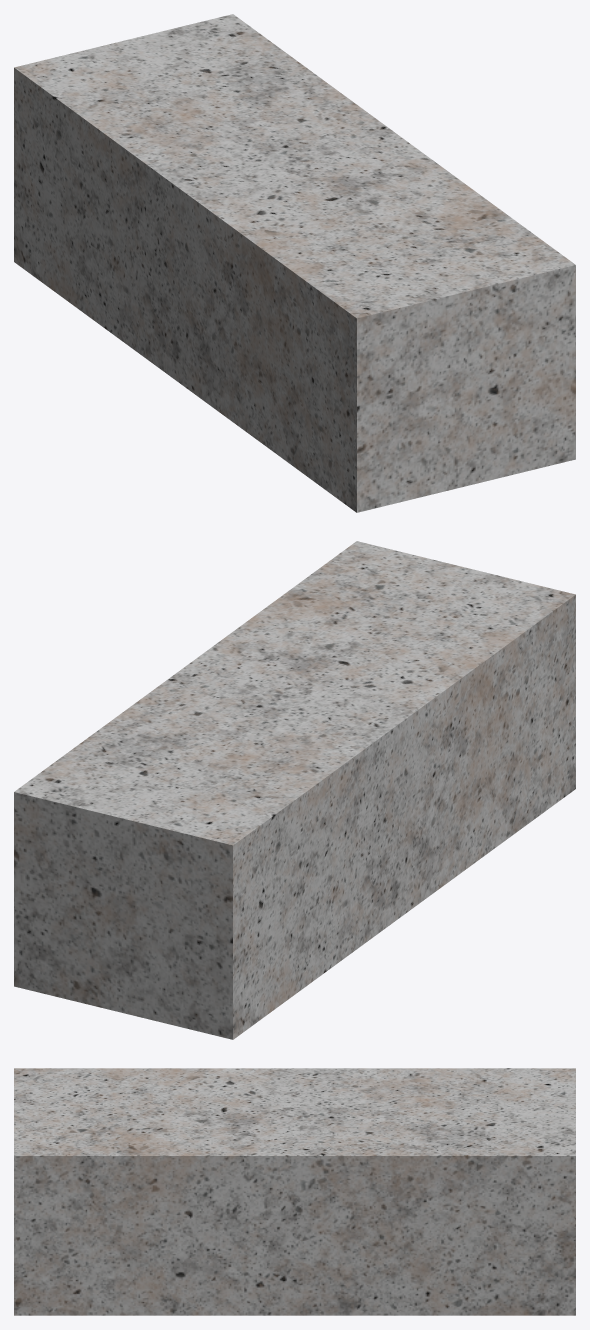
The model's file is SM_SteppingStone01A.fbx.
The picture shows the model from 3 angles, top to bottom: view 1: azimuth 30°, elevation 25°; view 2: azimuth 150°, elevation 25°; view 3: azimuth 270°, elevation 25°; orthographic projection. The views are drawn at different scales.
Visible parts, largest first — view 1: SM_SteppingStone01A; view 2: SM_SteppingStone01A; view 3: SM_SteppingStone01A.
Part boxes in pixels (box(x1,y1,x2,y2)): SM_SteppingStone01A: box(14, 14, 575, 512); SM_SteppingStone01A: box(14, 541, 575, 1039); SM_SteppingStone01A: box(14, 1068, 575, 1315).
Bounding box in the file's own units: 40.48 × 110 × 34.32.
Materials: 1 (1 with a texture image).
